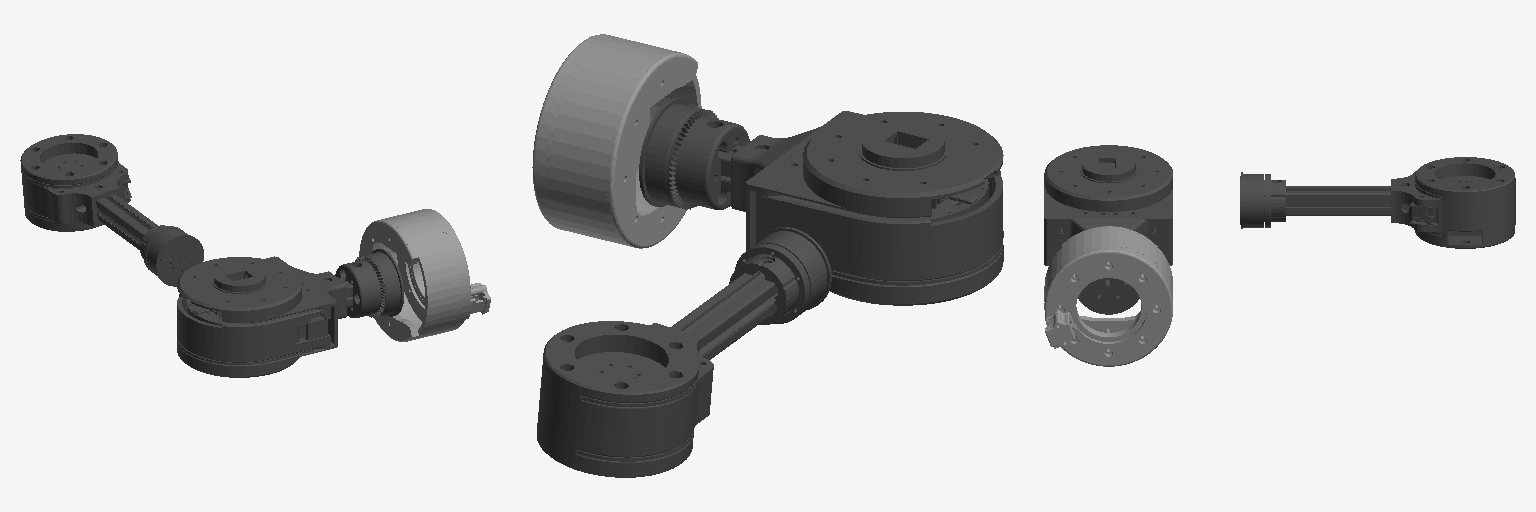
robot.urdf — DIVAR2V:
<?xml version="1.0" encoding="utf-8"?>
<!-- This URDF was automatically created by SolidWorks to URDF Exporter! Originally created by [author] ([email redacted])
     Commit Version: 1.6.0-1-g15f4949  Build Version: 1.6.7594.29634
     For more information, please see http://wiki.ros.org/sw_urdf_exporter -->
<!-- Modified inertial data based on AK motors -->
<robot
  name="DIVAR2V">
  <link
    name="base_link">
    <inertial>
      <origin
        xyz="0.0338364901739526 -0.00033626459572959 -9.69008007512981E-05"
        rpy="0 0 0" />
      <mass
        value="0.298766922776314" />
      <inertia
        ixx="0.000318637899977369"
        ixy="-3.60356780952487E-06"
        ixz="-8.01985345093479E-06"
        iyy="0.000243715324843074"
        iyz="-3.99019261867312E-05"
        izz="0.000150326005973297" />
    </inertial>
    <visual>
      <origin
        xyz="0 0 0"
        rpy="0 0 0" />
      <geometry>
        <mesh
          filename="../meshes/base_link.obj" />
      </geometry>
      <material
        name="">
        <color
          rgba="0.627450980392157 0.627450980392157 0.627450980392157 1" />
      </material>
    </visual>
    <collision>
      <origin
        xyz="0 0 0"
        rpy="0 0 0" />
      <geometry>
        <mesh
          filename="../meshes/base_link.obj" />
      </geometry>
    </collision>
  </link>
  <link
    name="link1">
    <inertial>
      <origin
        xyz="0.0015605 0.00039961 0.1303"
        rpy="0 0 0" />
      <mass
        value="0.621" />
      <inertia
        ixx="0.00063086"
        ixy="1.0188E-07"
        ixz="-4.5061E-06"
        iyy="0.00036201"
        iyz="2.3142E-08"
        izz="0.00060371" />
    </inertial>
    <visual>
      <origin
        xyz="0 0 0"
        rpy="0 0 0" />
      <geometry>
        <mesh
          filename="../meshes/link1.obj" />
      </geometry>
      <material
        name="">
        <color
          rgba="0.3451 0.3451 0.3451 1" />
      </material>
    </visual>
    <collision>
      <origin
        xyz="0 0 0"
        rpy="0 0 0" />
      <geometry>
        <mesh
          filename="../meshes/link1.obj" />
      </geometry>
    </collision>
  </link>
  <joint
    name="joint1"
    type="revolute">
    <origin
      xyz="0.025 0 0"
      rpy="0 -1.5708 0" />
    <parent
      link="base_link" />
    <child
      link="link1" />
    <axis
      xyz="0 0 1" />
  </joint>
  <link
    name="link2">
    <inertial>
      <origin
        xyz="-8.9718E-05 -0.06338 0.0072056"
        rpy="0 0 0" />
      <mass
        value="0.468" />
      <inertia
        ixx="0.0002988"
        ixy="-1.088E-06"
        ixz="-1.2272E-05"
        iyy="0.00032243"
        iyz="-1.6792E-06"
        izz="0.00027812" />
    </inertial>
    <visual>
      <origin
        xyz="0 0 0"
        rpy="0 0 0" />
      <geometry>
        <mesh
          filename="../meshes/link2.obj" />
      </geometry>
      <material
        name="">
        <color
          rgba="0.3451 0.3451 0.3451 1" />
      </material>
    </visual>
    <collision>
      <origin
        xyz="0 0 0"
        rpy="0 0 0" />
      <geometry>
        <mesh
          filename="../meshes/link2.obj" />
      </geometry>
    </collision>
  </link>
  <joint
    name="joint2"
    type="revolute">
    <origin
      xyz="0.00465 0 0.16275"
      rpy="3.1416 -1.5708 0" />
    <parent
      link="link1" />
    <child
      link="link2" />
    <axis
      xyz="0 0 1" />
  </joint>
  <link
    name="link3">
    <inertial>
      <origin
        xyz="-0.0027038 -0.00048992 0.18137"
        rpy="0 0 0" />
      <mass
        value="0.562" />
      <inertia
        ixx="0.00023922"
        ixy="-2.8245E-06"
        ixz="2.5833E-06"
        iyy="0.00017088"
        iyz="1.3582E-05"
        izz="0.00018722" />
    </inertial>
    <visual>
      <origin
        xyz="0 0 0"
        rpy="0 0 0" />
      <geometry>
        <mesh
          filename="../meshes/link3.obj" />
      </geometry>
      <material
        name="">
        <color
          rgba="0.3451 0.3451 0.3451 1" />
      </material>
    </visual>
    <collision>
      <origin
        xyz="0 0 0"
        rpy="0 0 0" />
      <geometry>
        <mesh
          filename="../meshes/link3.obj" />
      </geometry>
    </collision>
  </link>
  <joint
    name="joint3"
    type="revolute">
    <origin
      xyz="0 -0.088176 0.0044"
      rpy="1.5708 -1.4835 0" />
    <parent
      link="link2" />
    <child
      link="link3" />
    <axis
      xyz="0 0 1" />
  </joint>
  <link
    name="link4">
    <inertial>
      <origin
        xyz="-0.046076 -0.00066572 0.010386"
        rpy="0 0 0" />
      <mass
        value="0.468" />
      <inertia
        ixx="0.0001459"
        ixy="2.3566E-06"
        ixz="2.0693E-06"
        iyy="0.00010742"
        iyz="-1.0243E-05"
        izz="0.00015654" />
    </inertial>
    <visual>
      <origin
        xyz="0 0 0"
        rpy="0 0 0" />
      <geometry>
        <mesh
          filename="../meshes/link4.obj" />
      </geometry>
      <material
        name="">
        <color
          rgba="0.3451 0.3451 0.3451 1" />
      </material>
    </visual>
    <collision>
      <origin
        xyz="0 0 0"
        rpy="0 0 0" />
      <geometry>
        <mesh
          filename="../meshes/link4.obj" />
      </geometry>
    </collision>
  </link>
  <joint
    name="joint4"
    type="revolute">
    <origin
      xyz="-0.0083238 0.00013216 0.21184"
      rpy="1.5708 0.2618 1.5708" />
    <parent
      link="link3" />
    <child
      link="link4" />
    <axis
      xyz="0 0 1" />
  </joint>
  <link
    name="link5">
    <inertial>
      <origin
        xyz="6.9412E-07 -8.0151E-06 0.096764"
        rpy="0 0 0" />
      <mass
        value="0.1834" />
      <inertia
        ixx="0.00048569"
        ixy="-3.3211E-09"
        ixz="-1.2569E-08"
        iyy="0.00048571"
        iyz="2.0111E-10"
        izz="0.000142" />
    </inertial>
    <visual>
      <origin
        xyz="0 0 0"
        rpy="0 0 0" />
      <geometry>
        <mesh
          filename="../meshes/link5.obj" />
      </geometry>
      <material
        name="">
        <color
          rgba="0.054902 0.47059 0.9098 1" />
      </material>
    </visual>
    <collision>
      <origin
        xyz="0 0 0"
        rpy="0 0 0" />
      <geometry>
        <mesh
          filename="../meshes/link5.obj" />
      </geometry>
    </collision>
  </link>
  <joint
    name="joint5"
    type="revolute">
    <origin
      xyz="-0.070176 0.00013216 0.0070738"
      rpy="1.1947 -1.5708 -1.1926" />
    <parent
      link="link4" />
    <child
      link="link5" />
    <axis
      xyz="0 0 1" />
  </joint>
  <link  name="eef" />
  <joint  name="eef_joint"  type="fixed" >
   <parent  link="link5" />
   <child  link="eef" />
   <origin  xyz="0 0 0.235"  rpy="0 0 0" />
  </joint>

  <transmission  name="trans1" >
   <type  xmltext="SimpleTransmission" >
    SimpleTransmission
   </type>
   <actuator  name="motor1" >
    <mechanicalreduction  xmltext="1" >
     1
    </mechanicalreduction>
   </actuator>
   <joint  name="joint1" />
  </transmission>

  <transmission  name="trans2" >
   <type  xmltext="SimpleTransmission" >
    SimpleTransmission
   </type>
   <actuator  name="motor2" >
    <mechanicalreduction  xmltext="1" >
     1
    </mechanicalreduction>
   </actuator>
   <joint  name="joint2" />
  </transmission>

  <transmission  name="trans3" >
   <type  xmltext="SimpleTransmission" >
    SimpleTransmission
   </type>
   <actuator  name="motor3" >
    <mechanicalreduction  xmltext="1" >
     1
    </mechanicalreduction>
   </actuator>
   <joint  name="joint3" />
  </transmission>

  <transmission  name="trans4" >
   <type  xmltext="SimpleTransmission" >
    SimpleTransmission
   </type>
   <actuator  name="motor4" >
    <mechanicalreduction  xmltext="1" >
     1
    </mechanicalreduction>
   </actuator>
   <joint  name="joint4" />
  </transmission>

  <transmission  name="trans5" >
   <type  xmltext="SimpleTransmission" >
    SimpleTransmission
   </type>
   <actuator  name="motor5" >
    <mechanicalreduction  xmltext="1" >
     1
    </mechanicalreduction>
   </actuator>
   <joint  name="joint5" />
  </transmission>
</robot>

--- What the picture shows (computed from the rendered views, not written in the file) ---
3 views of the same robot in one strip: view 1: azimuth 30°, elevation 25°; view 2: azimuth 150°, elevation 25°; view 3: azimuth 270°, elevation 25° (orthographic).
Model DIVAR2V with 7 links and 6 joints (5 revolute, 1 fixed), rooted at base_link, posed all joints at 0.
Visible links, largest first — view 1: link1, link3, base_link; view 2: link1, link3, base_link; view 3: link3, link1, base_link.
Boxes of the visible links, box(x1,y1,x2,y2) form: link1: box(177, 249, 403, 377); link3: box(20, 134, 203, 286); base_link: box(359, 209, 490, 341); link1: box(639, 98, 1003, 305); link3: box(537, 227, 831, 477); base_link: box(532, 34, 701, 248); link3: box(1240, 157, 1515, 248); link1: box(1044, 145, 1172, 314); base_link: box(1044, 226, 1172, 366).
Size in the robot's own frame: 0.2756 by 0.3966 by 0.1084 metres.
3 mesh visuals loaded from 6 distinct referenced files (3 OBJ); not drawn: 3 (reference not matched to a file when rendering).